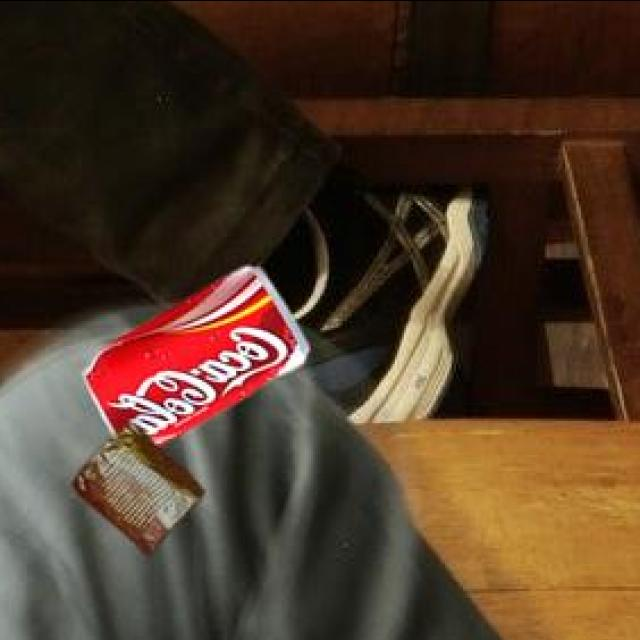logam: (81, 262, 305, 444), (69, 419, 201, 550)
